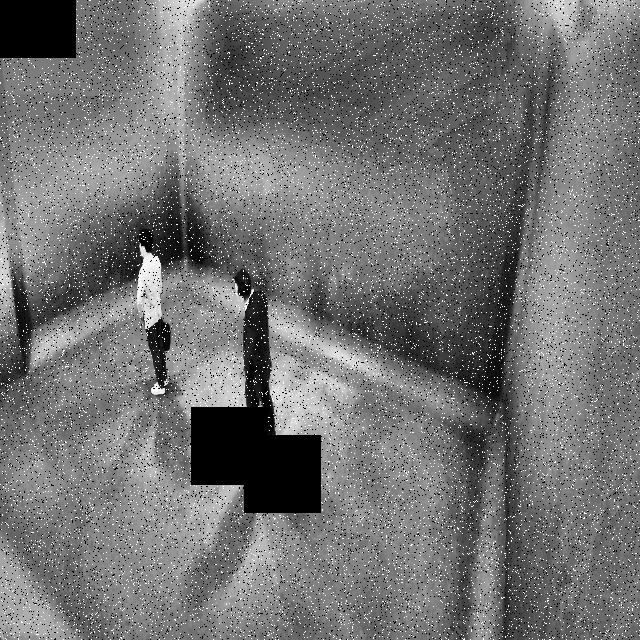assult: (124, 203, 296, 473)
